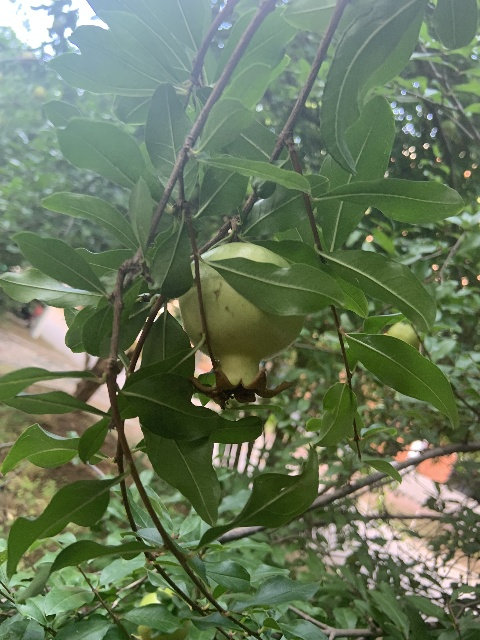mid-growth: (178, 242, 305, 402)
